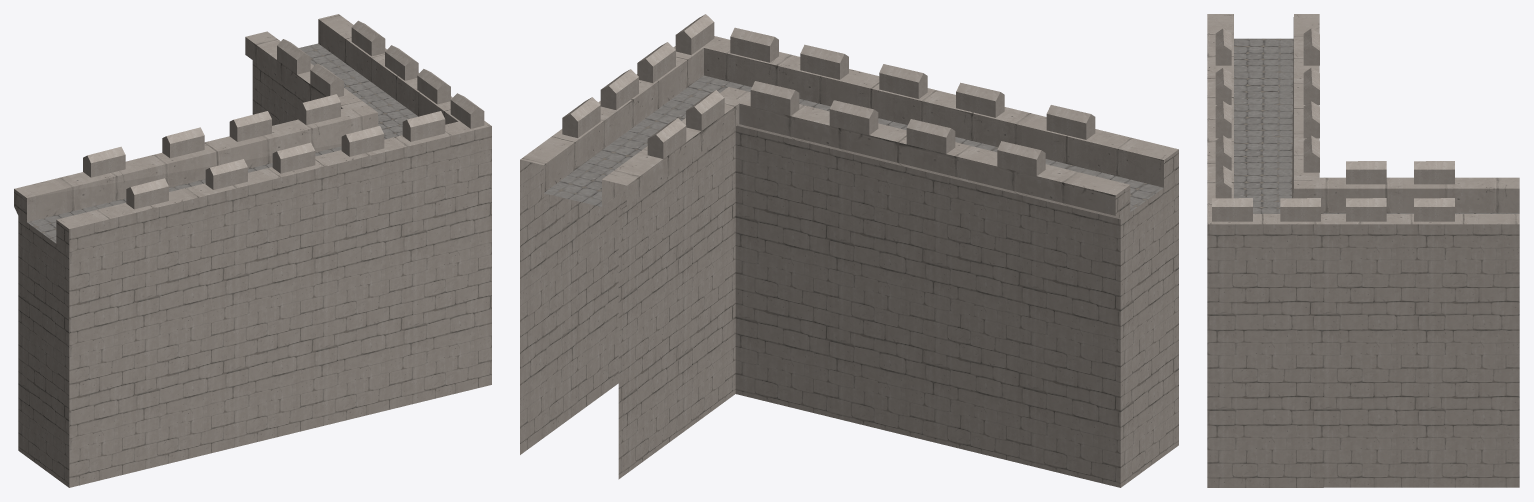
File: CastleWall_E.fbx
The picture shows the model from 3 angles, left to right: view 1: azimuth 30°, elevation 25°; view 2: azimuth 150°, elevation 25°; view 3: azimuth 270°, elevation 25°; orthographic projection. The views are drawn at different scales.
Visible parts, largest first — view 1: CastleWall_E; view 2: CastleWall_E; view 3: CastleWall_E.
Part boxes in pixels (x1,y1,x2,y2): CastleWall_E: [14, 14, 491, 487]; CastleWall_E: [520, 14, 1178, 487]; CastleWall_E: [1207, 14, 1519, 487].
Bounding box in the file's own units: 6180 × 3892 × 3879.
2 materials, 2 textured.
